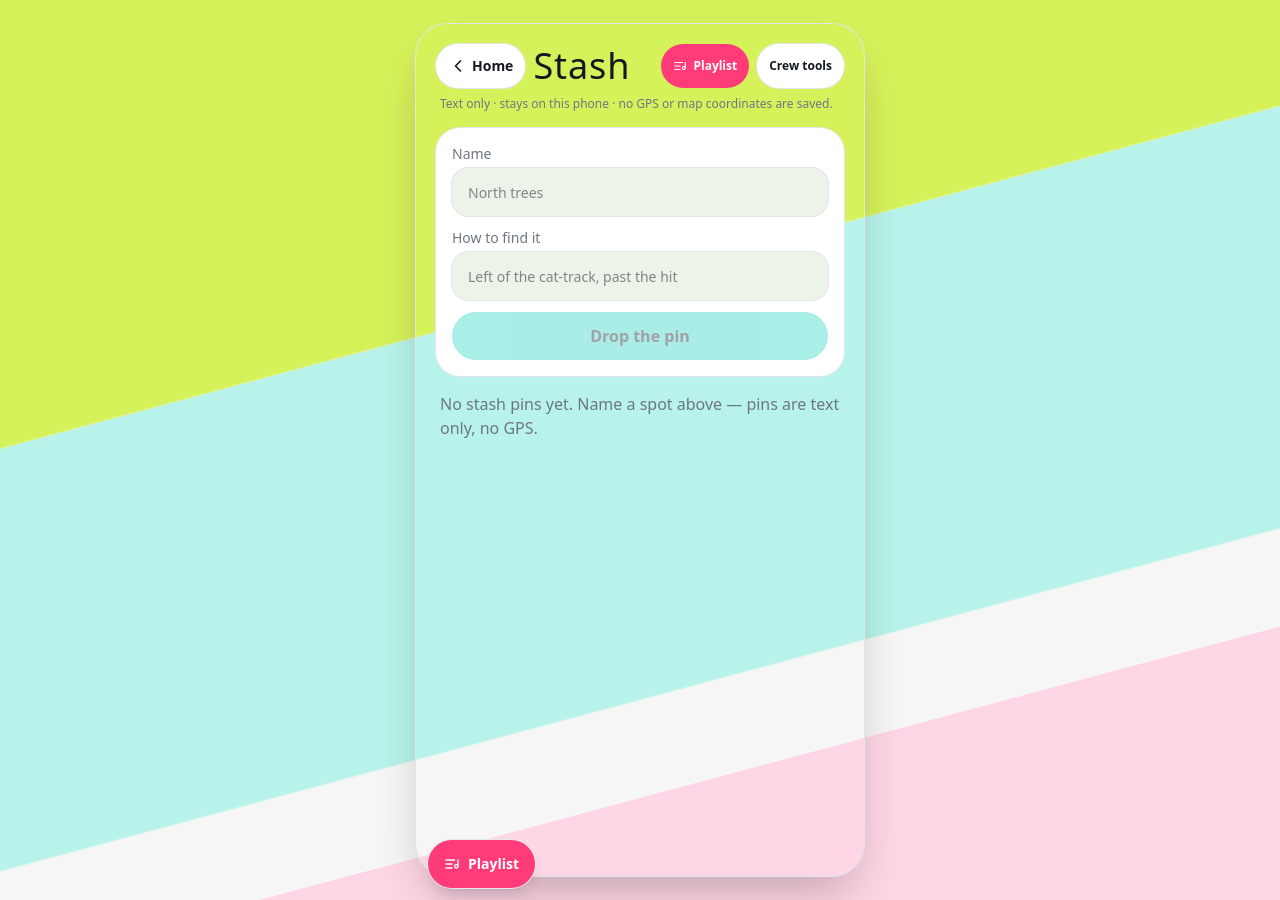
it: Stash screen › valid pin saves and clears form
Type "Trees" into the field named "Stash name". click: (640, 192)
box: [452,168,828,216]
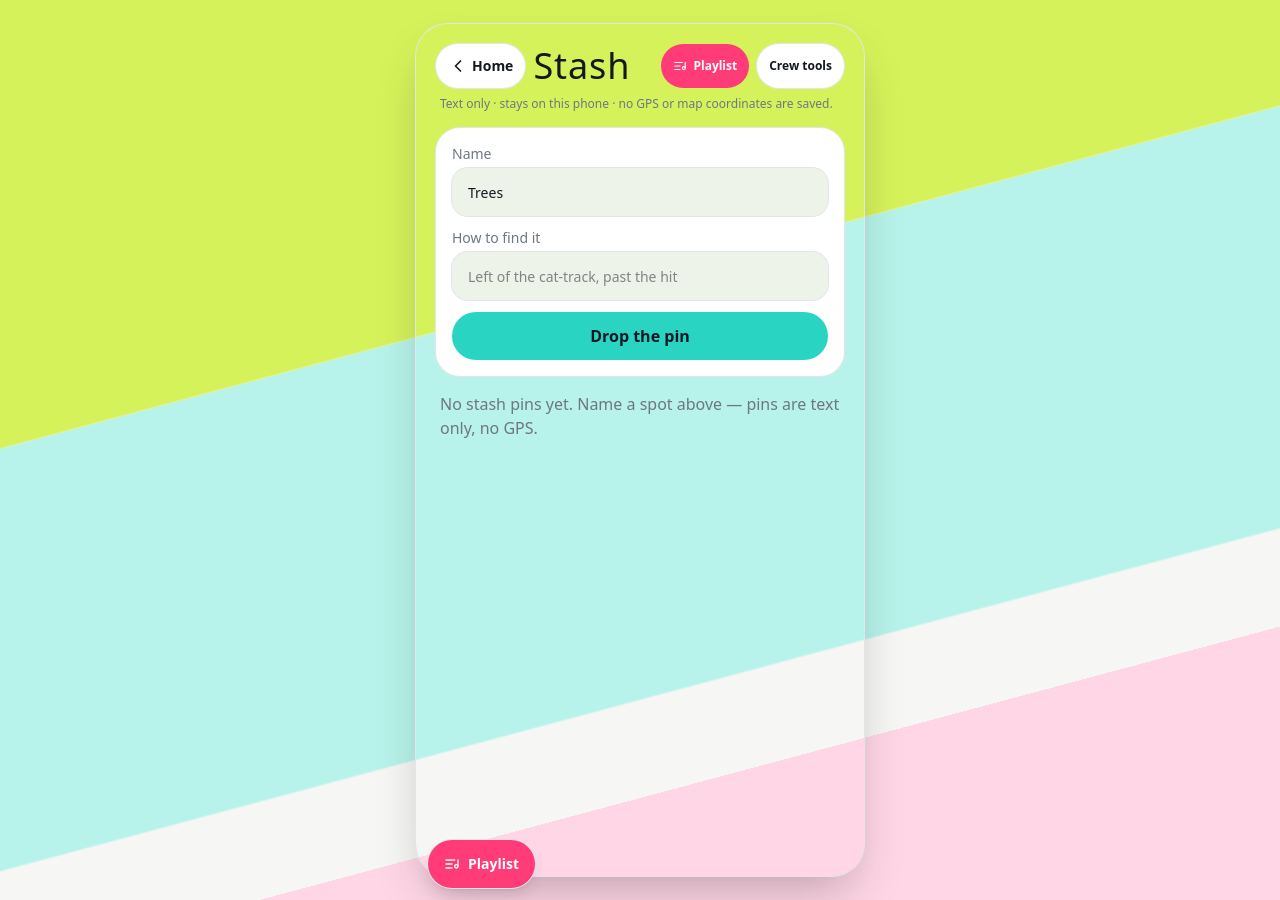
Type "left" into the field labelled "How to find it". click: (640, 276)
box: [452,252,828,300]
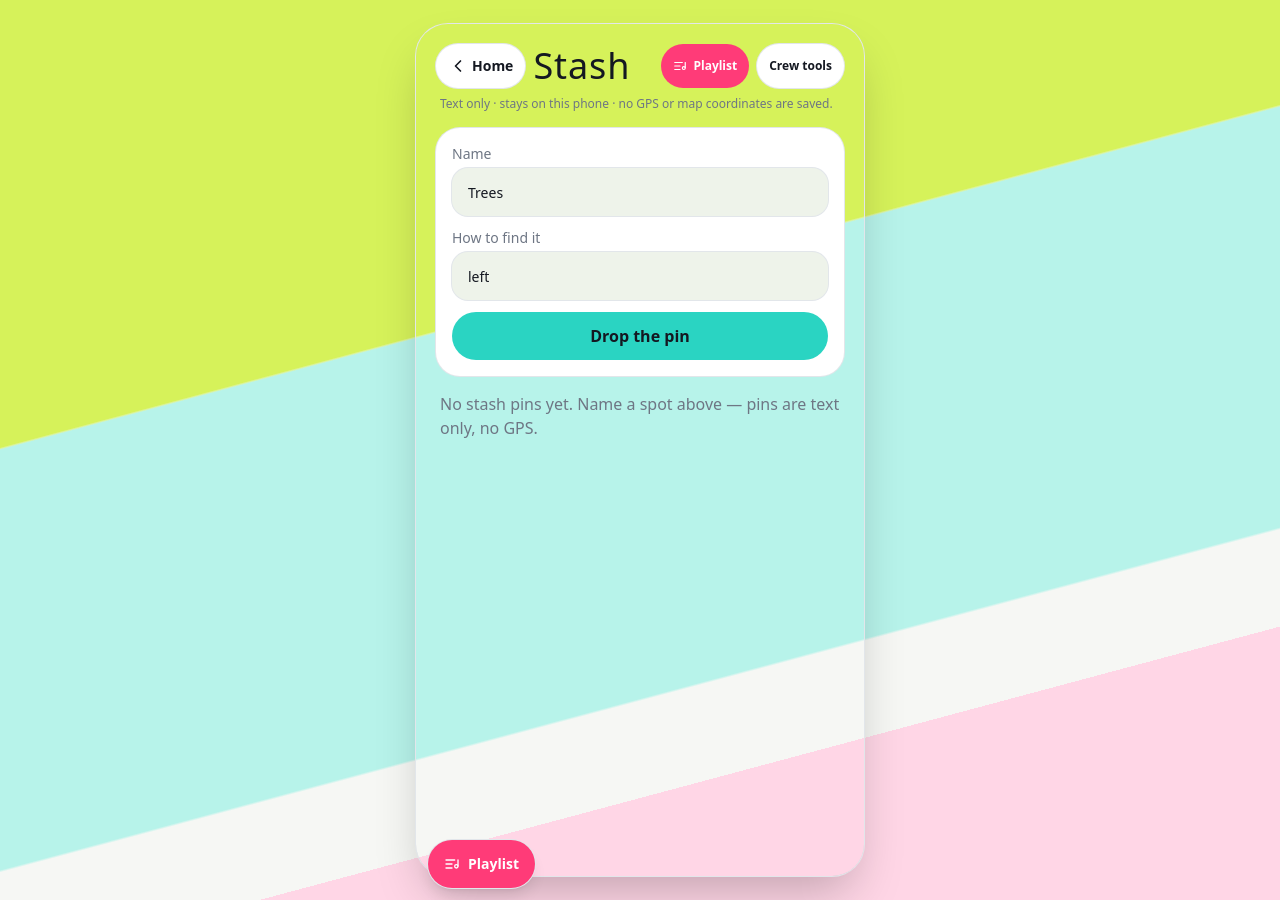
Click the button "Drop the pin". click: (640, 336)
box: [452,312,828,360]
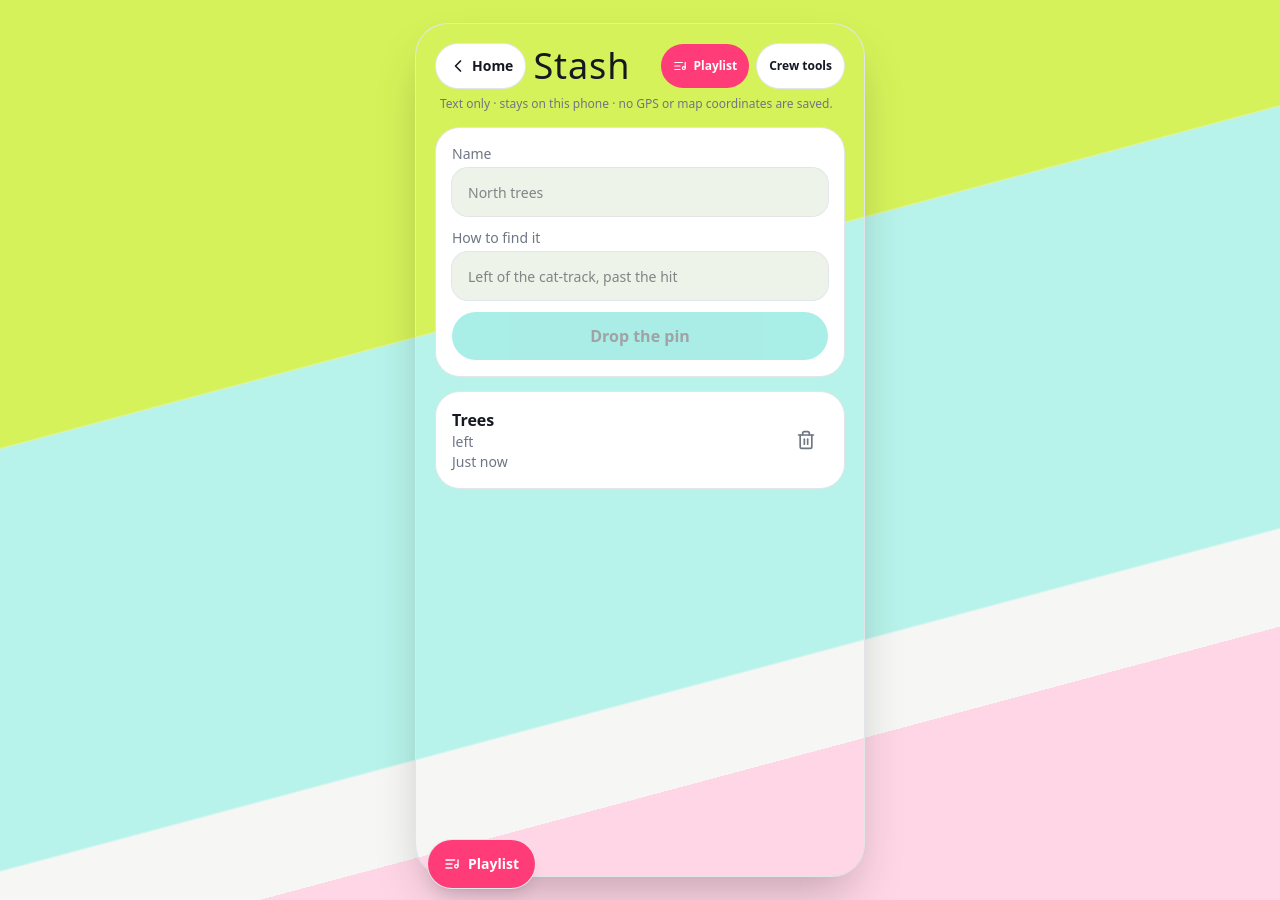
Result: the field named "Stash name" is empty at [452,168,828,216]
Result: the text with test id "stash-empty" is gone
